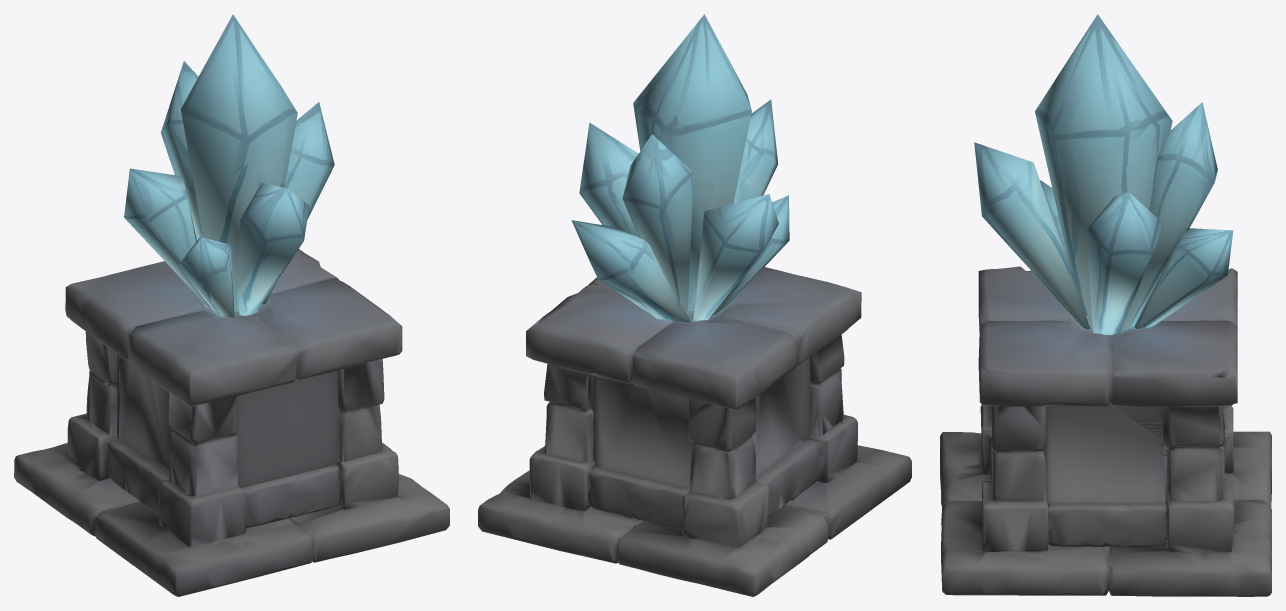
File: selected.glb
3 renders of one model, left to right at view 1: azimuth 30°, elevation 25°; view 2: azimuth 150°, elevation 25°; view 3: azimuth 270°, elevation 25°, orthographic. The views are drawn at different scales.
Visible parts, largest first — view 1: tripo_node_f7c52ac1-1c54-4358-807a-05aaa6de71da; view 2: tripo_node_f7c52ac1-1c54-4358-807a-05aaa6de71da; view 3: tripo_node_f7c52ac1-1c54-4358-807a-05aaa6de71da.
Part boxes in pixels (x1,y1,x2,y2): tripo_node_f7c52ac1-1c54-4358-807a-05aaa6de71da: (14, 14, 449, 596); tripo_node_f7c52ac1-1c54-4358-807a-05aaa6de71da: (478, 14, 911, 596); tripo_node_f7c52ac1-1c54-4358-807a-05aaa6de71da: (940, 14, 1271, 596).
Bounding box in the file's own units: 0.5918 × 0.998 × 0.5879.
Materials: 1 (1 with a texture image).
